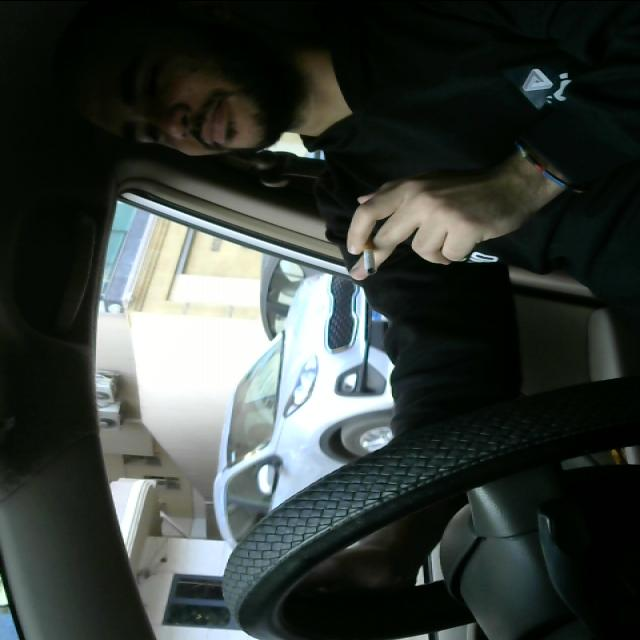smoking: (357, 230, 378, 274)
